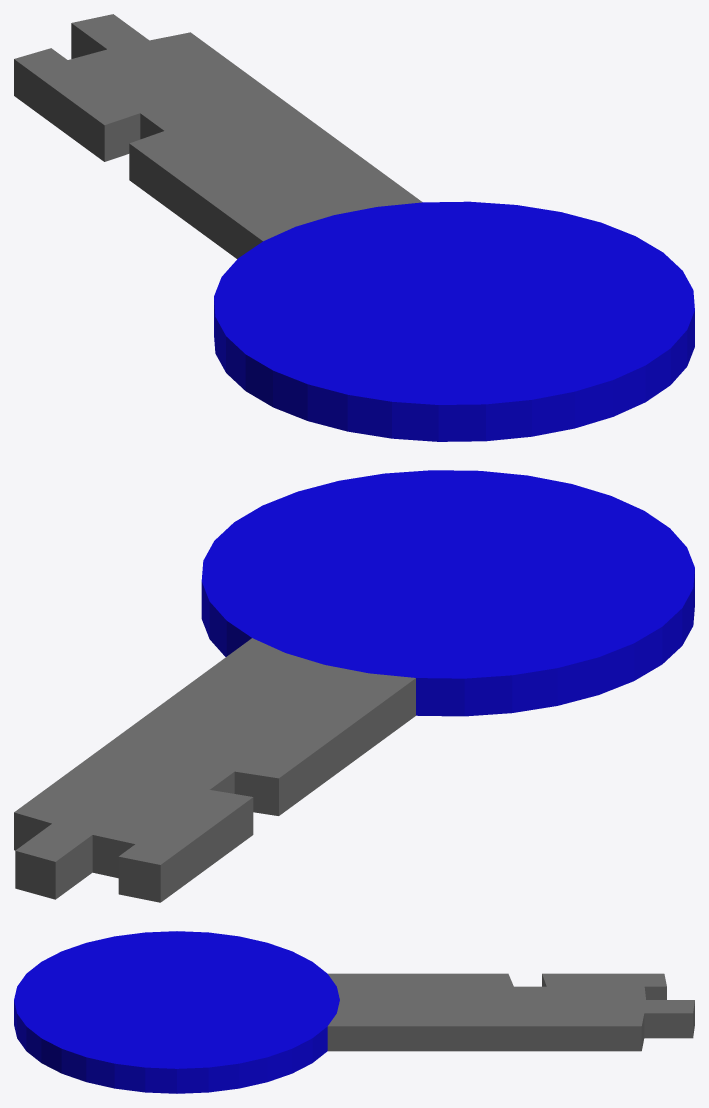
The model's file is key.fbx.
The picture shows the model from 3 angles, top to bottom: view 1: azimuth 30°, elevation 25°; view 2: azimuth 150°, elevation 25°; view 3: azimuth 270°, elevation 25°; orthographic projection. The views are drawn at different scales.
Parts seen in each view (by area): view 1: Circle; view 2: Circle; view 3: Circle.
Boxes of the visible parts, x1=… form: Circle: x1=14, y1=14, x2=694, y2=441; Circle: x1=14, y1=470, x2=694, y2=902; Circle: x1=14, y1=931, x2=694, y2=1093.
Size of the model in its own units: 200 by 16.88 by 418.
